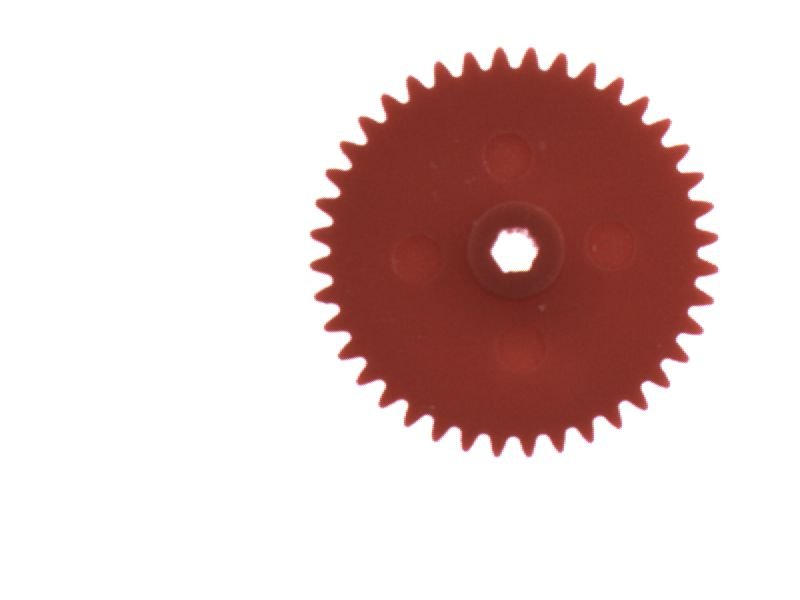good_product: (299, 33, 730, 469)
